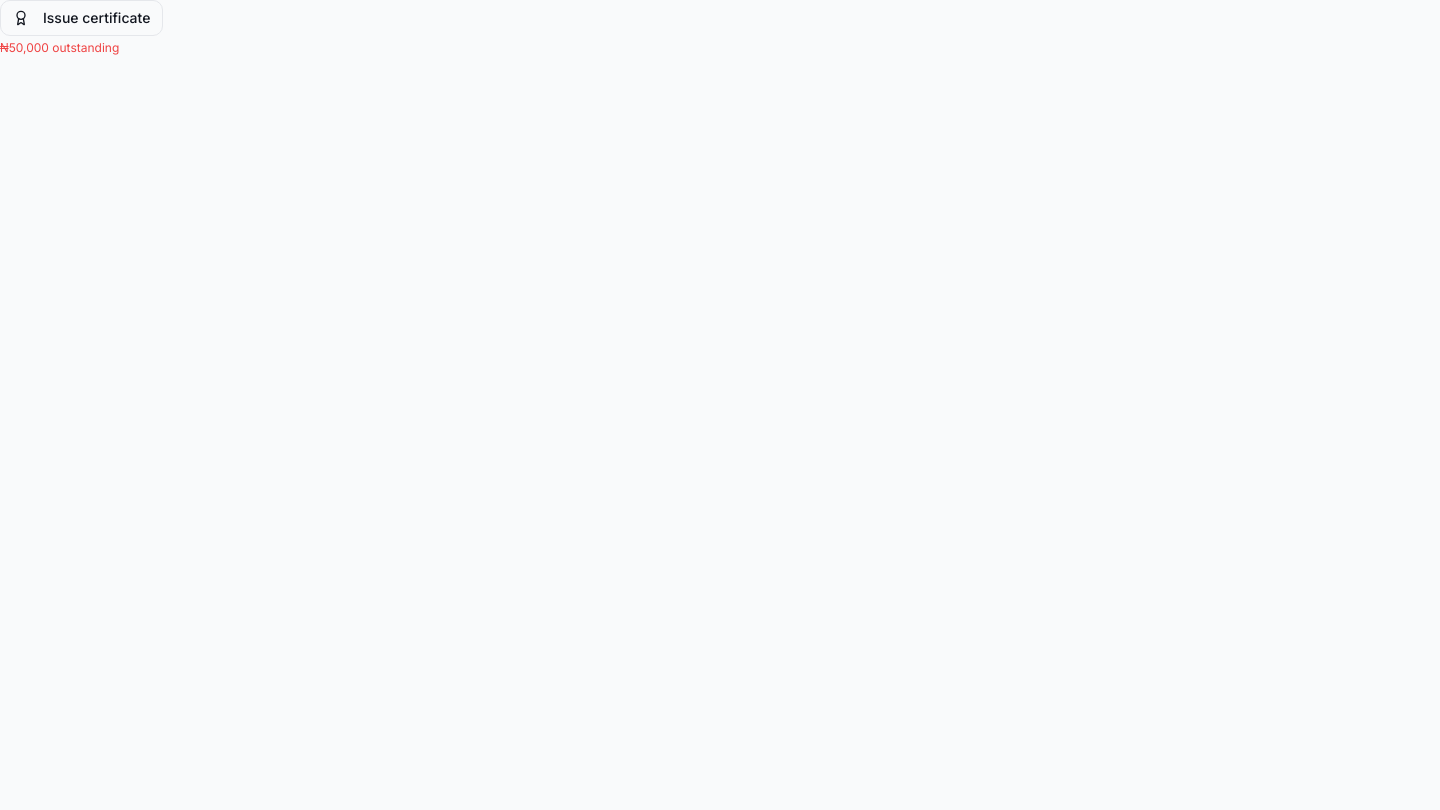
CertificateAction › lets the CEO issue despite a balance, but only with a reason
Later steps or results of the test are not shown.
Step 1. Click the button "Issue certificate" → [82, 18], box 0,0 -> 163,36
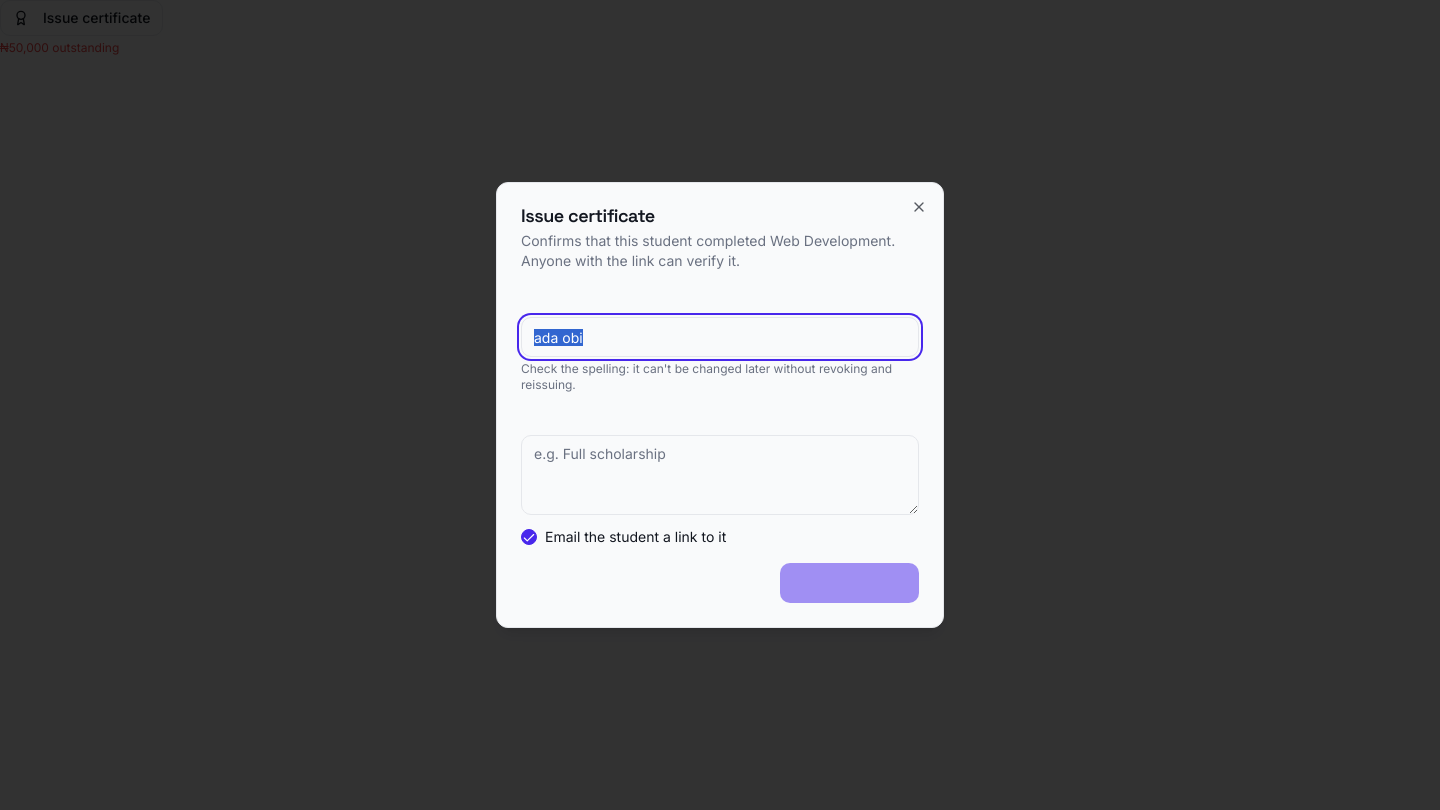
Expected: the button "Issue certificate" is disabled, 780,563 -> 919,603
